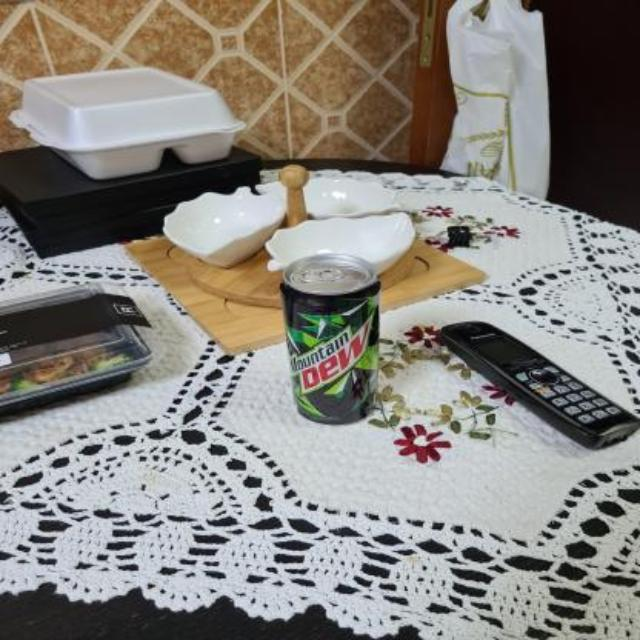metal: (280, 254, 377, 423)
